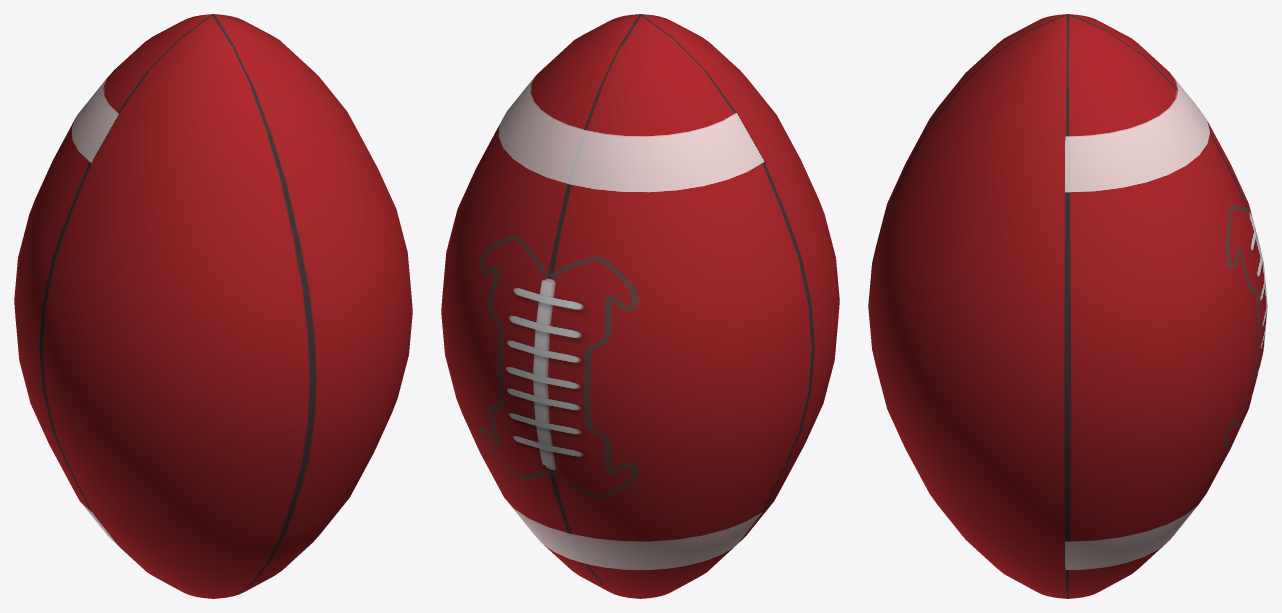
Rendered from football.fbx.
3 renders of one model, left to right at view 1: azimuth 30°, elevation 25°; view 2: azimuth 150°, elevation 25°; view 3: azimuth 270°, elevation 25°, orthographic.
Visible parts, largest first — view 1: footballus; view 2: footballus; view 3: footballus.
Part boxes in pixels (left/top/right/bottom): footballus: left=14, top=14, right=412, bottom=598; footballus: left=441, top=14, right=839, bottom=598; footballus: left=868, top=14, right=1267, bottom=598.
Size of the model in its own units: 120 by 194 by 120.
